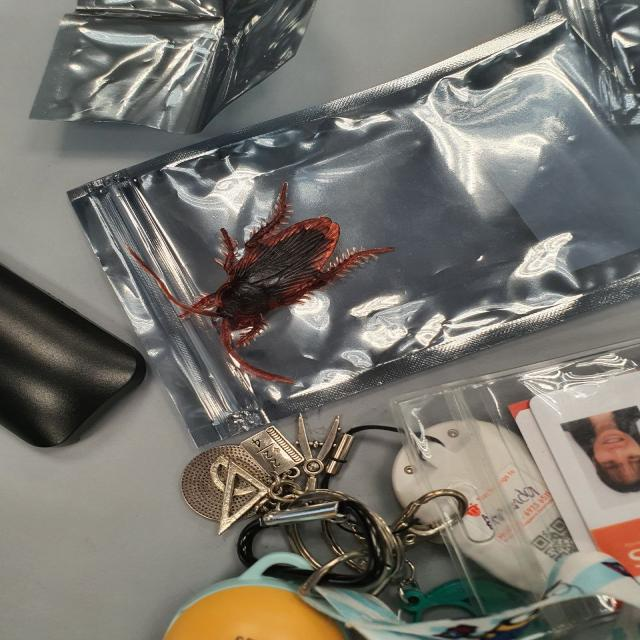Cockroach: (162, 187, 382, 375)
